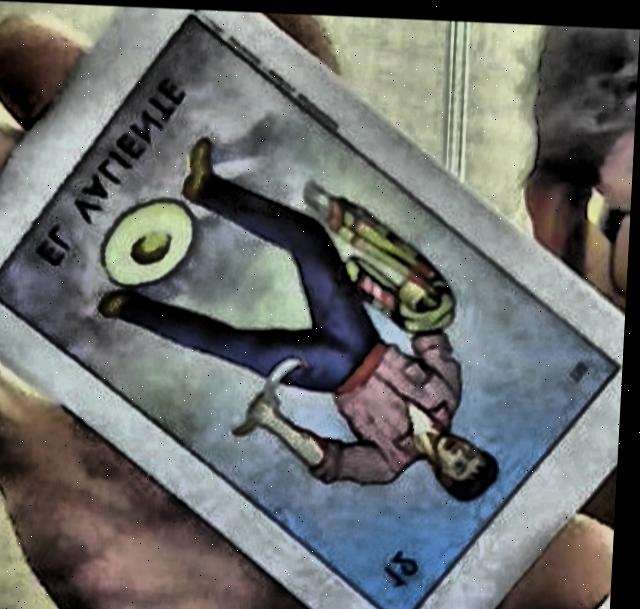El Valiente: (0, 8, 623, 609)
